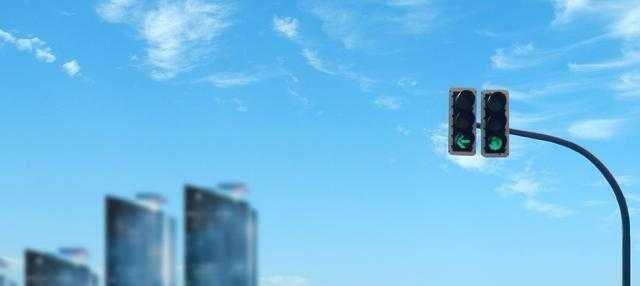1: (450, 130, 476, 158)
2: (448, 80, 481, 161)
3: (452, 86, 478, 114), (452, 109, 478, 132), (486, 108, 509, 134), (487, 91, 508, 112)
red traffic light: (484, 132, 509, 154)
